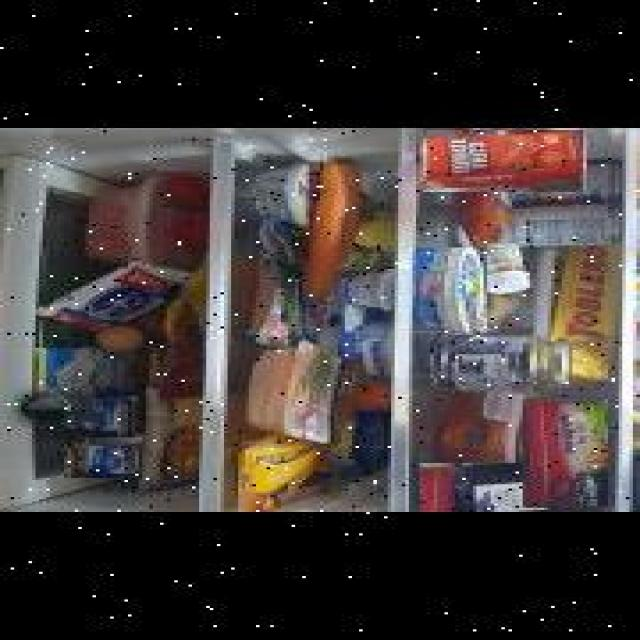butter: (519, 399, 605, 508)
carrot: (303, 160, 342, 303)
cheese: (234, 435, 330, 512), (412, 248, 483, 334)
egg: (89, 324, 135, 354)
marmelade: (416, 463, 555, 512)
pak_choi: (0, 172, 64, 473)
tomato: (160, 173, 206, 211)
tomato_sauce: (413, 130, 583, 192)
yogurt: (60, 437, 138, 478)
